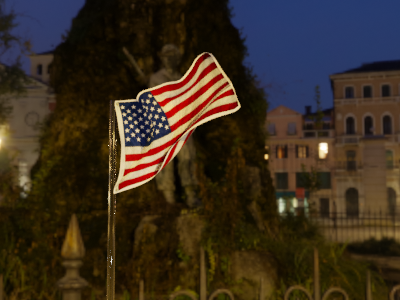America flag: (113, 51, 243, 194)
